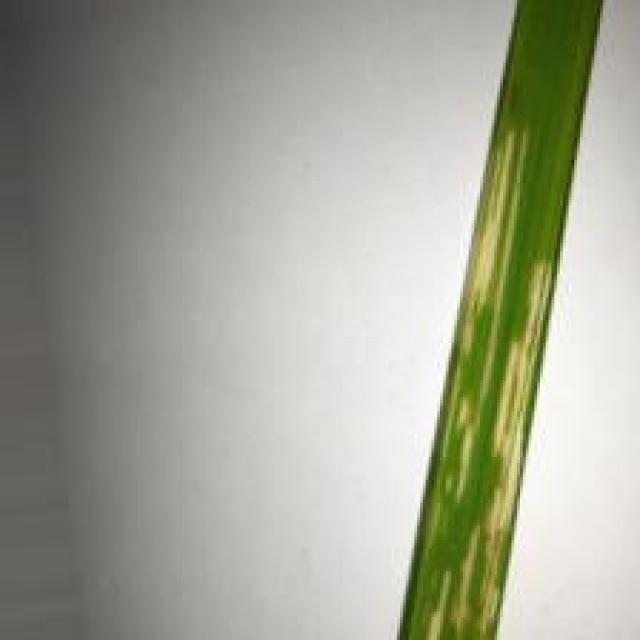Rice_Hispa: (420, 257, 557, 640), (449, 124, 528, 359)
